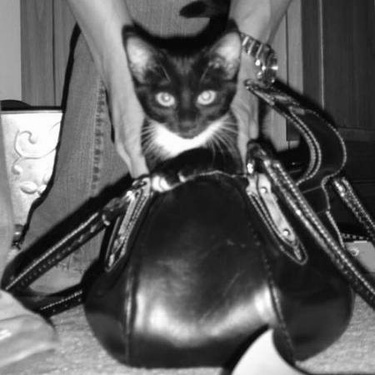cat: (103, 2, 280, 343)
